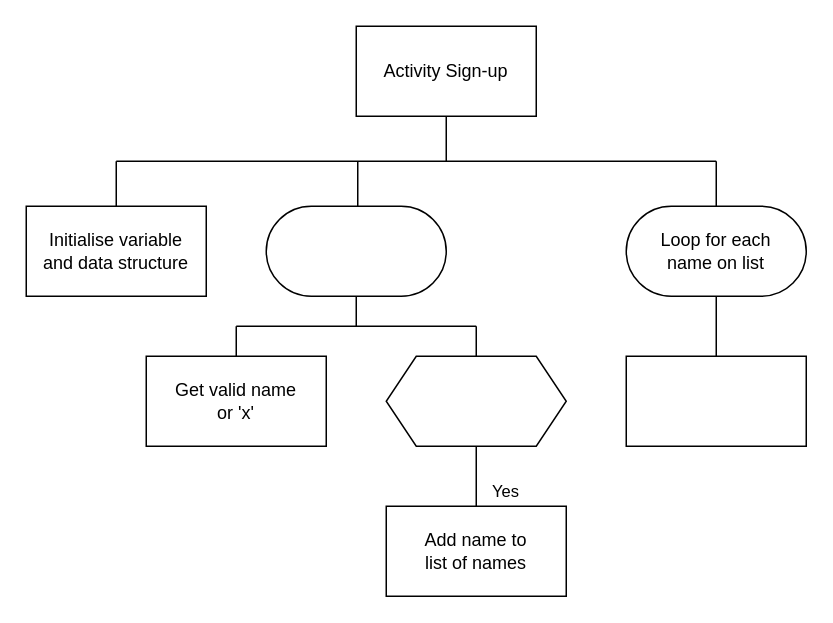
This 833x623 diagram has some shape labels left out. The centre of each missing label's shape, as x and y in pixels:
Display name: the point at 715,400
Loop until user enters 'x': the point at 355,250
Was a name entered?: the point at 475,400
